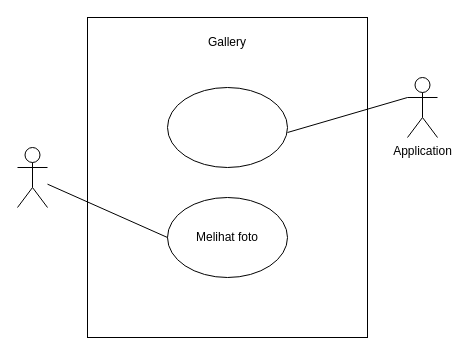
This 469x355 diagram has some shape labels left out. The centre of each missing label's shape, as x and y in pixels:
Menampilkan foto: the point at 227,127
User: the point at 32,177
